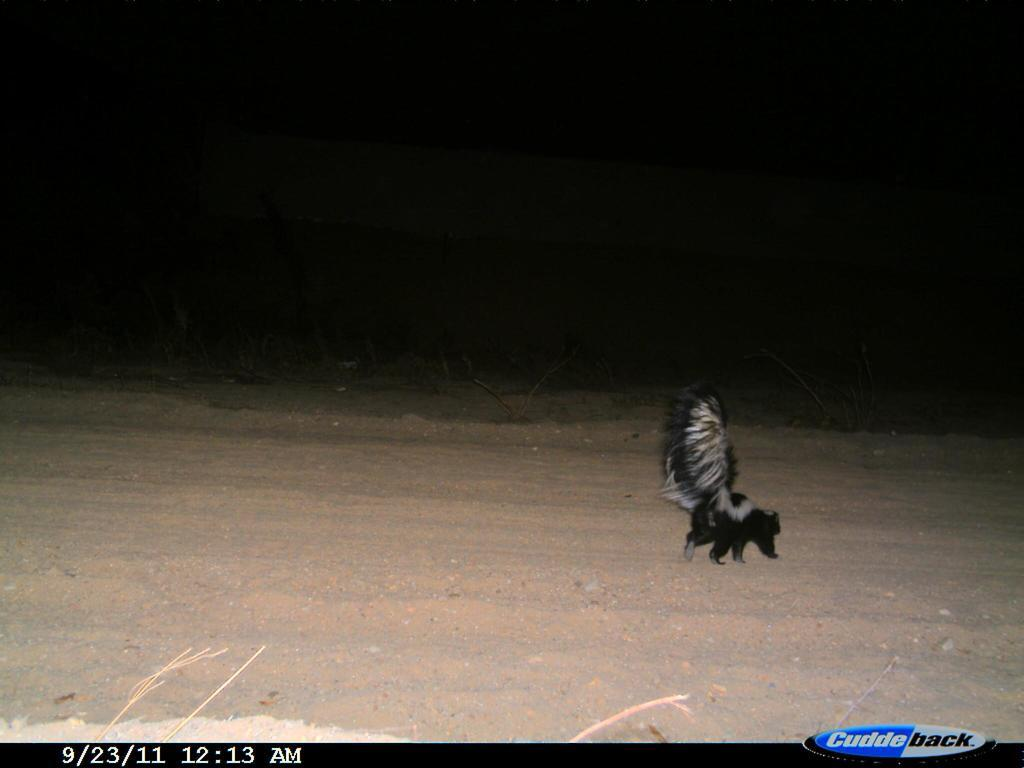skunk: (652, 370, 792, 574)
